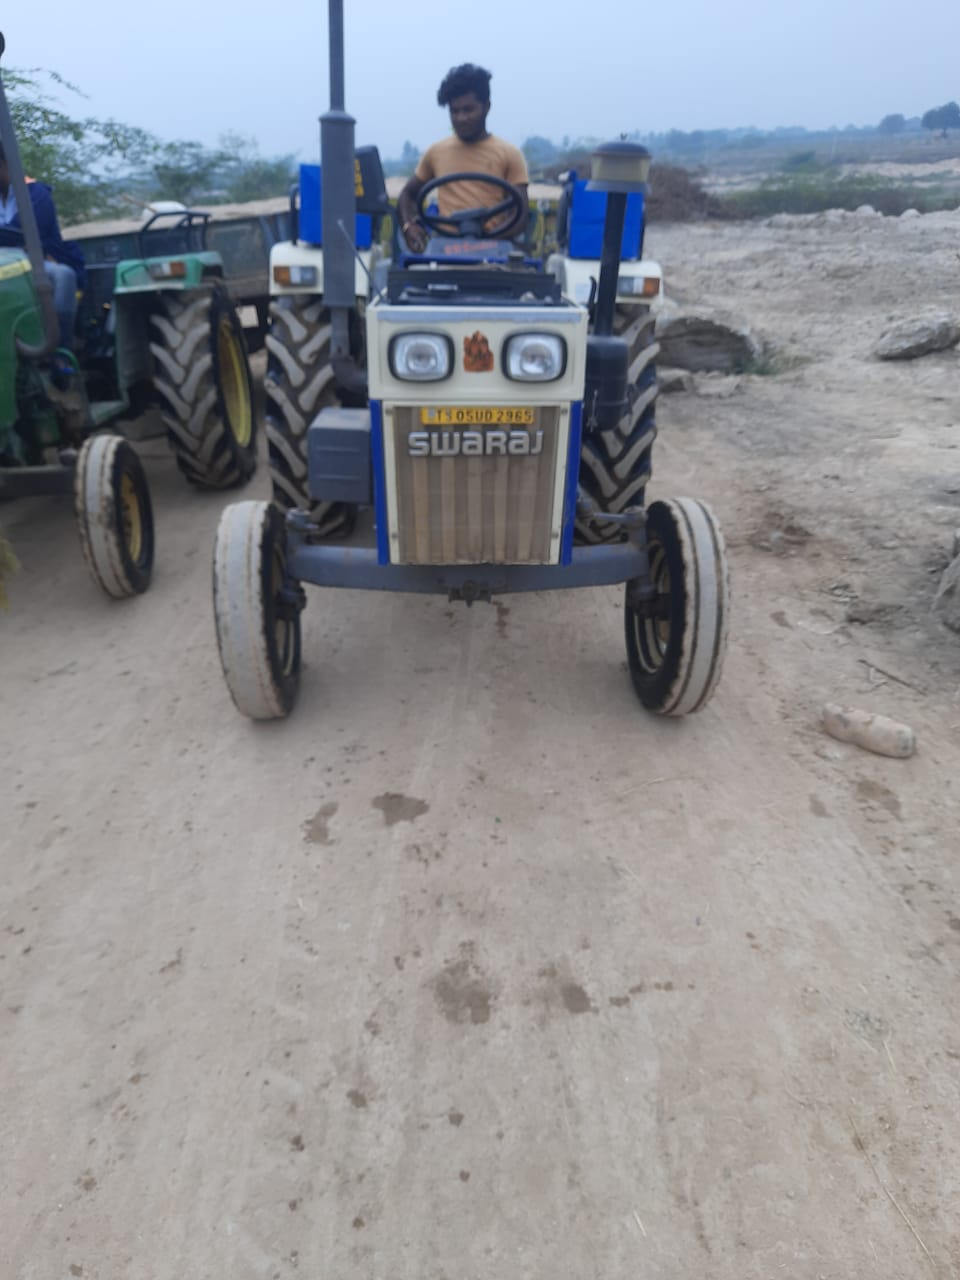num_plate: (420, 405, 545, 425)
